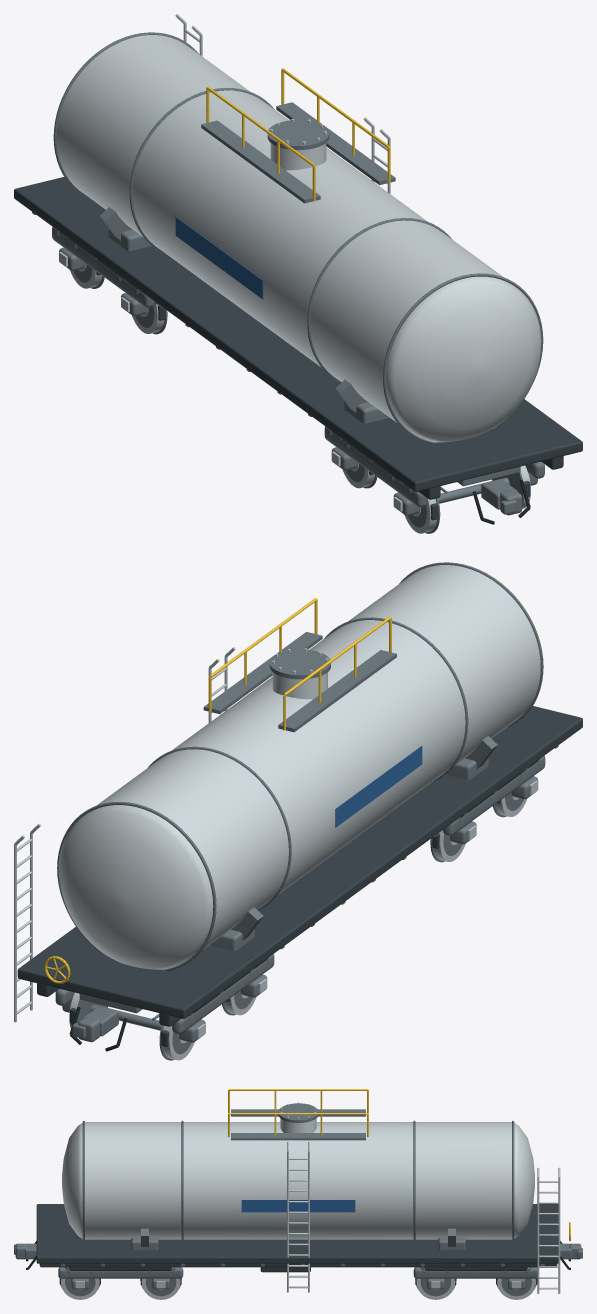
The model's file is wagon_tank.glb.
3 renders of one model, top to bottom at view 1: azimuth 30°, elevation 25°; view 2: azimuth 150°, elevation 25°; view 3: azimuth 270°, elevation 25°, orthographic. The views are drawn at different scales.
Parts seen in each view (by area): view 1: tank_vessel, deck, tank_dome, tank_bands, bogie_0_frame, bogie_1_frame, tank_valves, coupler_front, underframe, bogie_0_wheel_0_L, access_ladders, bogie_1_wheel_0_L; view 2: tank_vessel, deck, tank_dome, tank_bands, bogie_1_frame, bogie_0_frame, access_ladders, tank_valves, coupler_rear, underframe, bogie_1_wheel_1_L, bogie_0_wheel_1_L; view 3: tank_vessel, deck, tank_dome, underframe, access_ladders, tank_bands, bogie_0_frame, bogie_1_frame, tank_valves, bogie_0_wheel_1_R, bogie_1_wheel_0_R, bogie_0_wheel_0_R (+3 smaller).
Boxes of the visible parts, x1,y1,x2,y2 form: tank_vessel: (56, 35, 541, 442); deck: (14, 177, 582, 491); tank_dome: (201, 68, 395, 203); tank_bands: (53, 32, 543, 443); bogie_0_frame: (324, 426, 544, 520); bogie_1_frame: (52, 227, 165, 320); tank_valves: (175, 217, 263, 299); coupler_front: (472, 479, 530, 524); underframe: (32, 212, 563, 499); bogie_0_wheel_0_L: (404, 498, 440, 533); access_ladders: (175, 14, 390, 193); bogie_1_wheel_0_L: (132, 303, 167, 334); tank_vessel: (59, 565, 540, 969); deck: (17, 706, 582, 1018); tank_dome: (203, 598, 396, 732); tank_bands: (57, 562, 543, 970); bogie_1_frame: (55, 954, 274, 1046); bogie_0_frame: (432, 755, 545, 848); access_ladders: (14, 647, 235, 1022); tank_valves: (335, 746, 422, 827); coupler_rear: (69, 1006, 127, 1051); underframe: (37, 745, 558, 1026); bogie_1_wheel_1_L: (159, 1025, 194, 1060); bogie_0_wheel_1_L: (430, 830, 465, 862); tank_vessel: (62, 1122, 534, 1239); deck: (36, 1204, 558, 1263); tank_dome: (228, 1089, 368, 1140); underframe: (39, 1263, 557, 1267); access_ladders: (287, 1141, 560, 1293); tank_bands: (82, 1120, 514, 1250); bogie_0_frame: (58, 1267, 183, 1289); bogie_1_frame: (413, 1267, 537, 1289); tank_valves: (241, 1200, 355, 1212); bogie_0_wheel_1_R: (140, 1278, 181, 1299); bogie_1_wheel_0_R: (415, 1278, 456, 1299); bogie_0_wheel_0_R: (60, 1278, 99, 1299).
Size of the model in its own units: 3.08 by 4.83 by 13.52.
